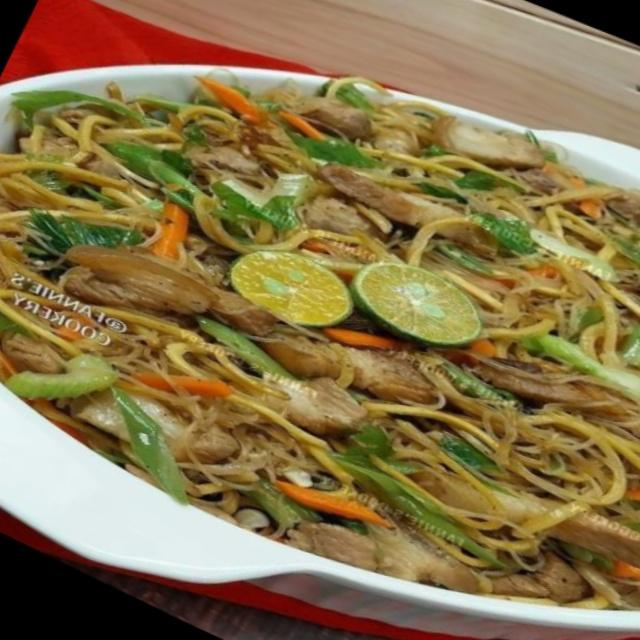pancit bihon: (0, 92, 639, 626)
